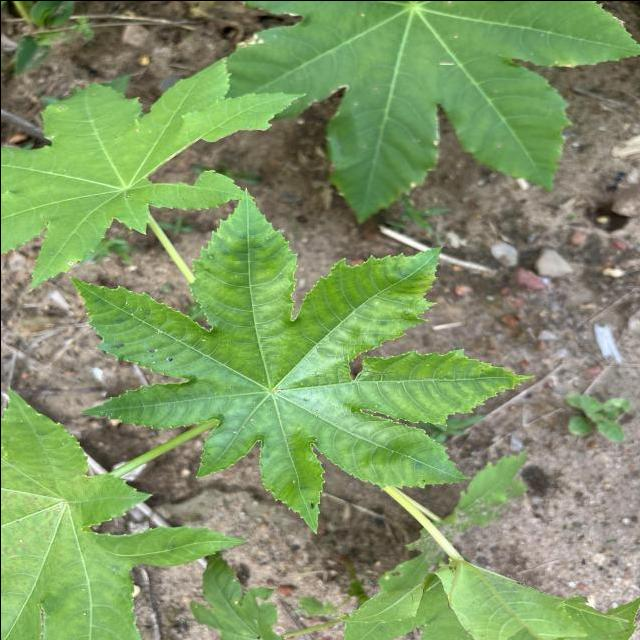Ricinus communis linn: (63, 183, 540, 539)
